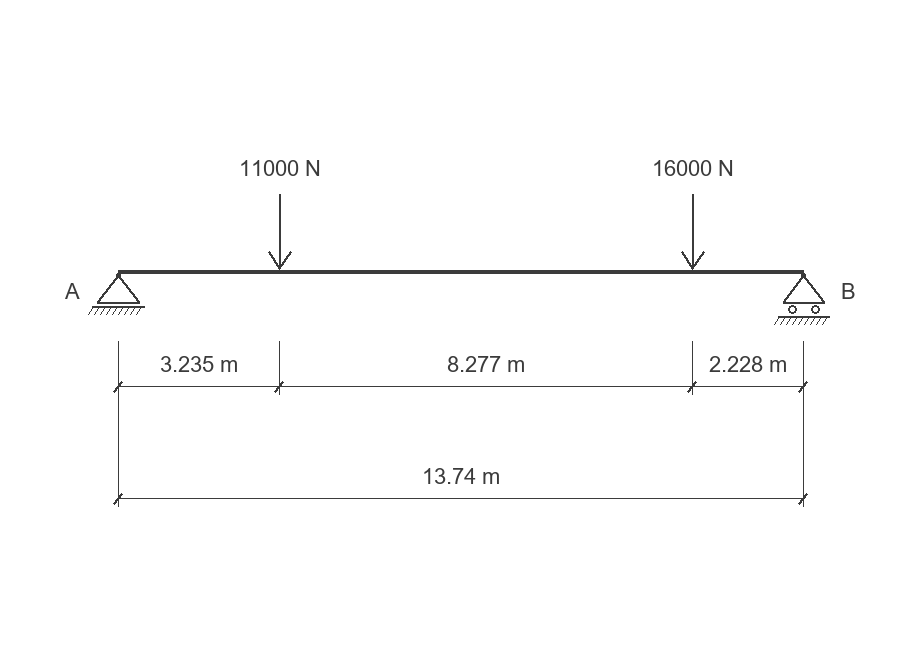pin_support: (88, 273, 145, 315)
point_load: (268, 194, 292, 270), (681, 194, 705, 270)
roller_support: (774, 273, 830, 325)
